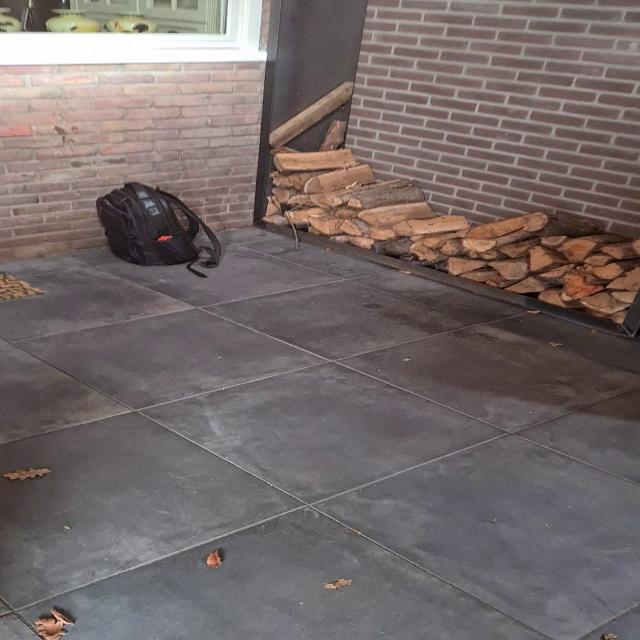backpack: (92, 180, 218, 270)
